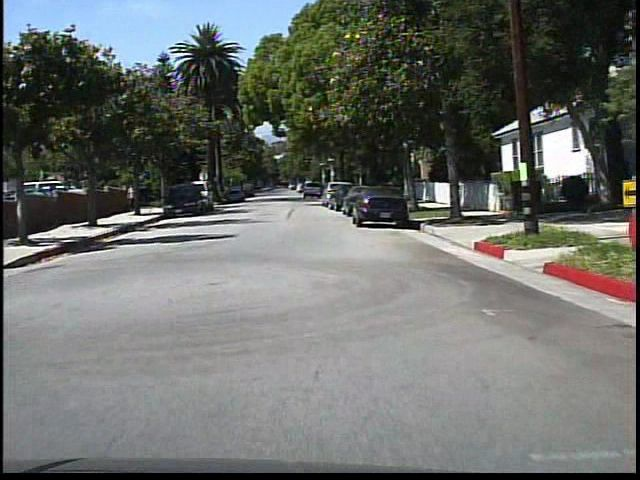person: (127, 181, 142, 215)
